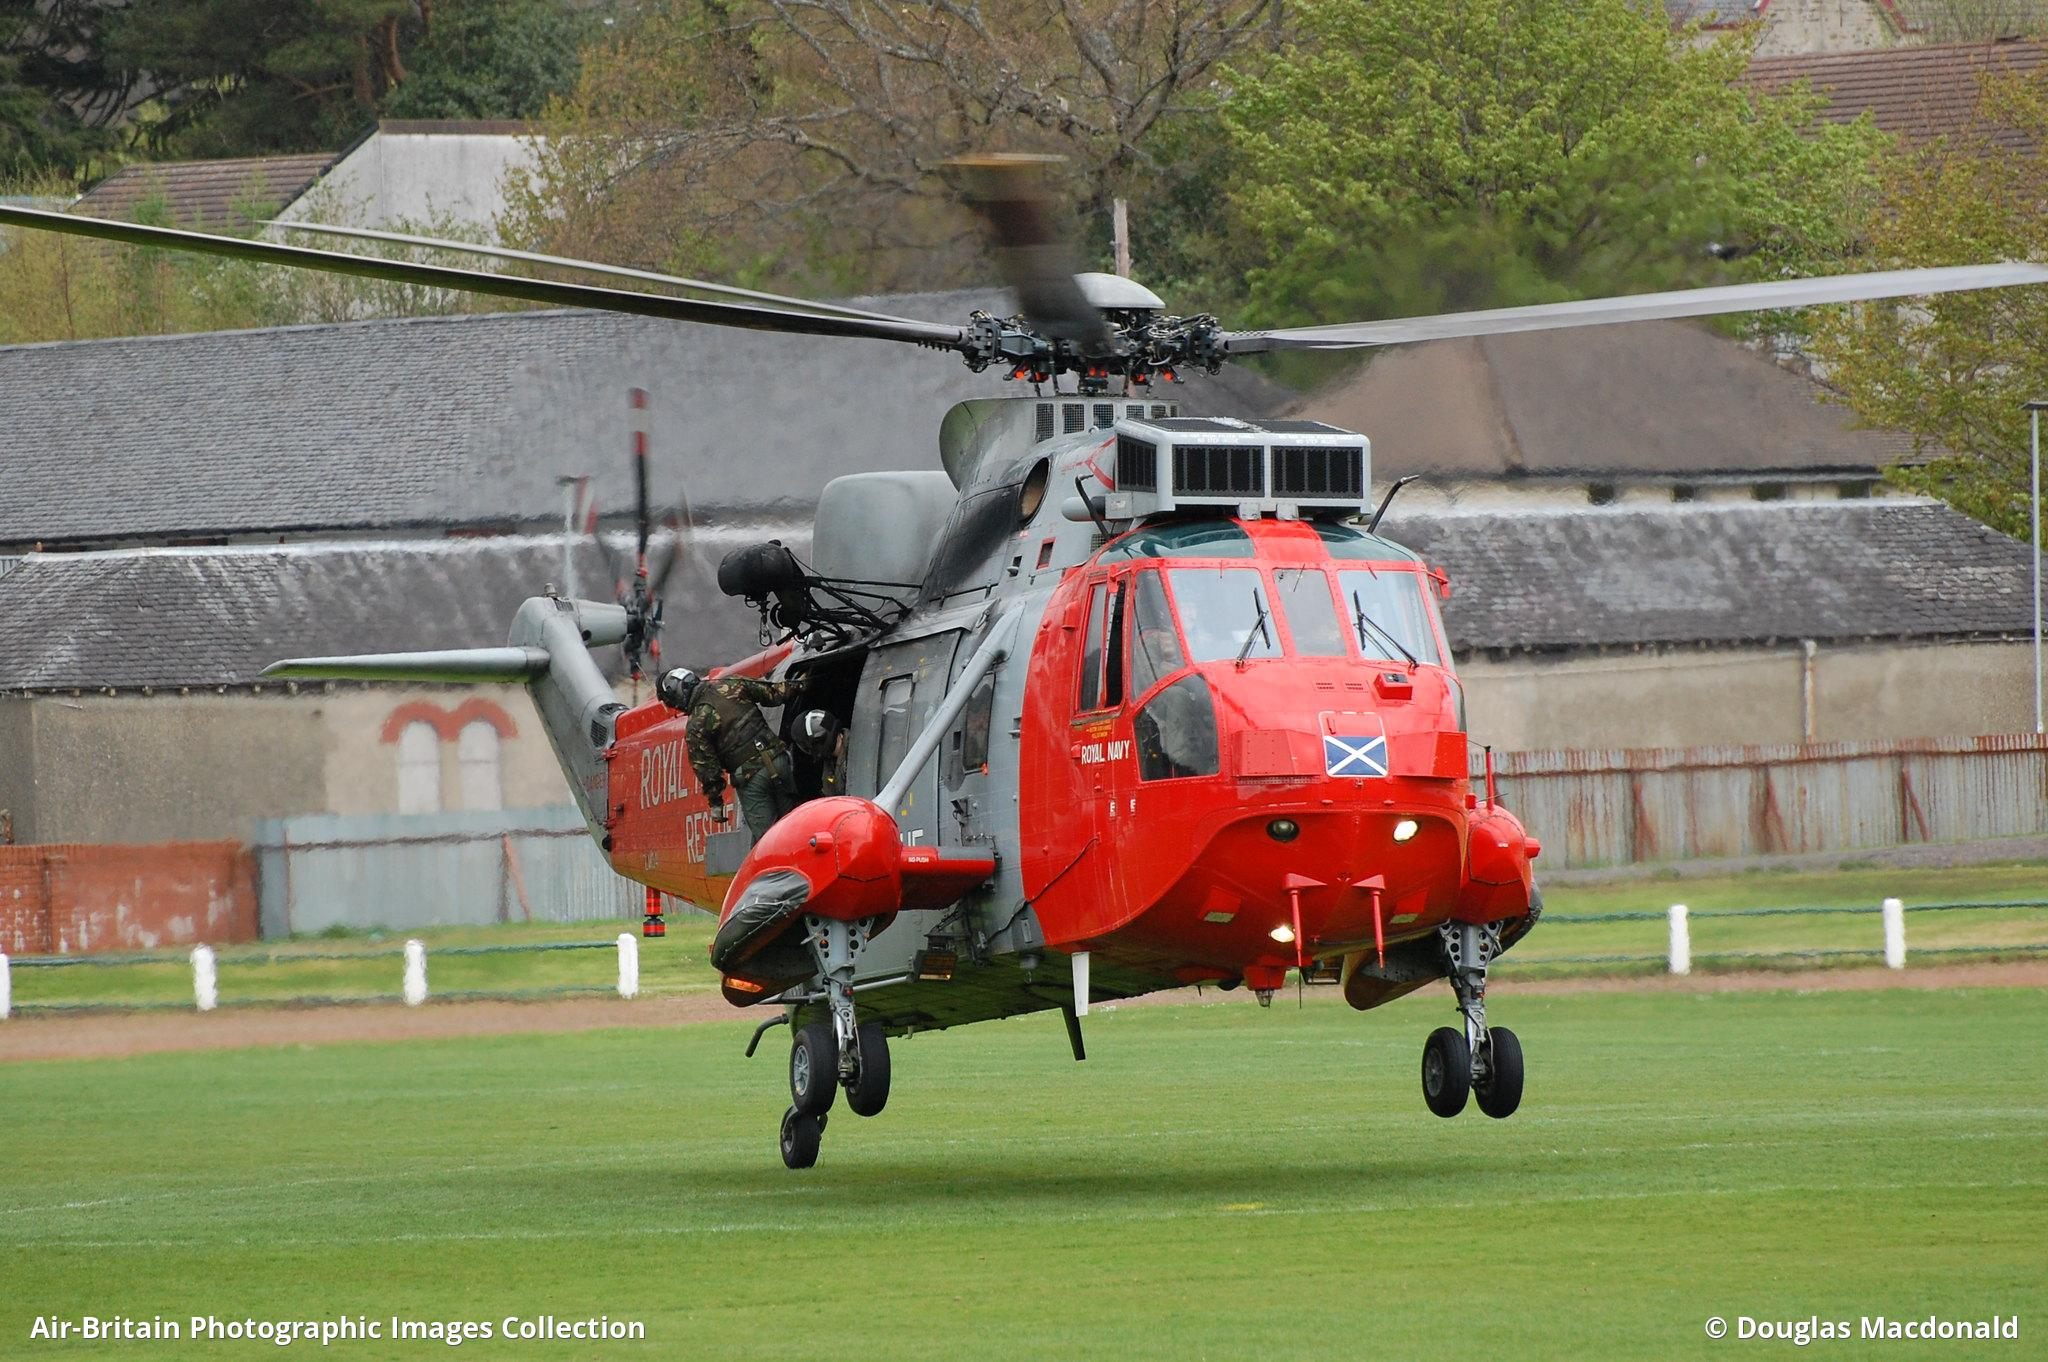Sea King: (248, 239, 1588, 1183)
